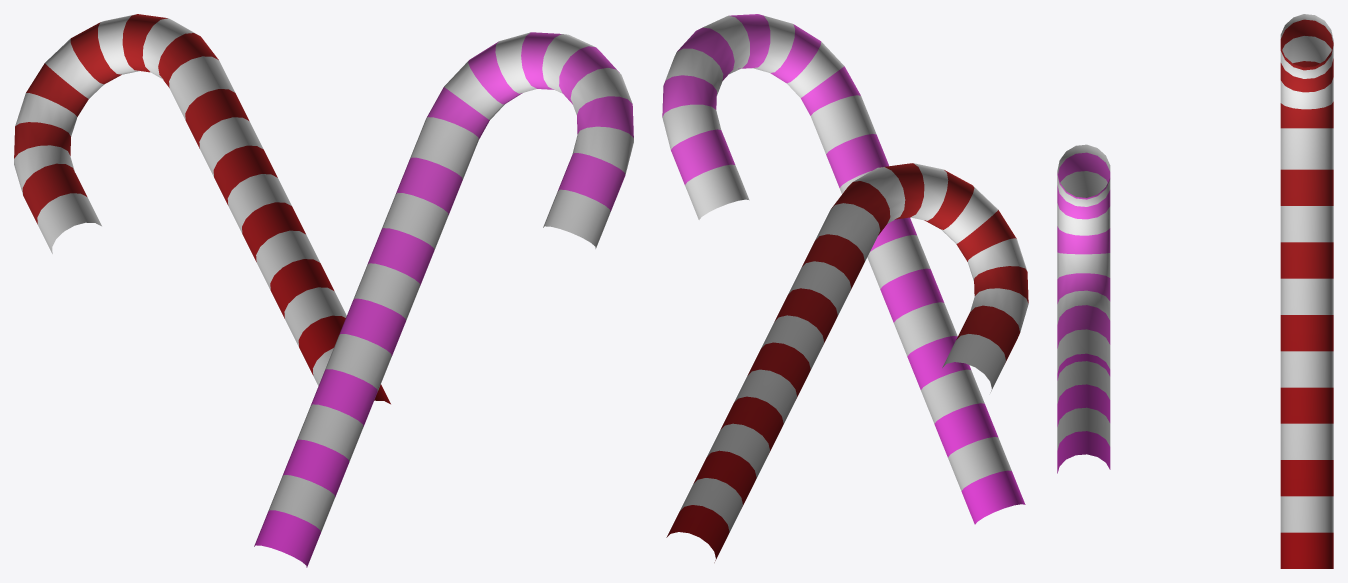
The model's file is Decorations.glb.
The picture shows the model from 3 angles, left to right: view 1: azimuth 30°, elevation 25°; view 2: azimuth 150°, elevation 25°; view 3: azimuth 270°, elevation 25°; orthographic projection. The views are drawn at different scales.
Parts seen in each view (by area): view 1: Gift.001, Gift; view 2: Gift.001, Gift; view 3: Gift, Gift.001.
Boxes of the visible parts, x1,y1,x2,y2 form: Gift.001: [254, 32, 633, 567]; Gift: [14, 14, 390, 404]; Gift.001: [662, 14, 1025, 524]; Gift: [666, 163, 1028, 562]; Gift: [1280, 14, 1333, 568]; Gift.001: [1057, 144, 1110, 473].
Bounding box in the file's own units: 0.2403 × 0.2188 × 0.1242.
1 material, 1 textured.
